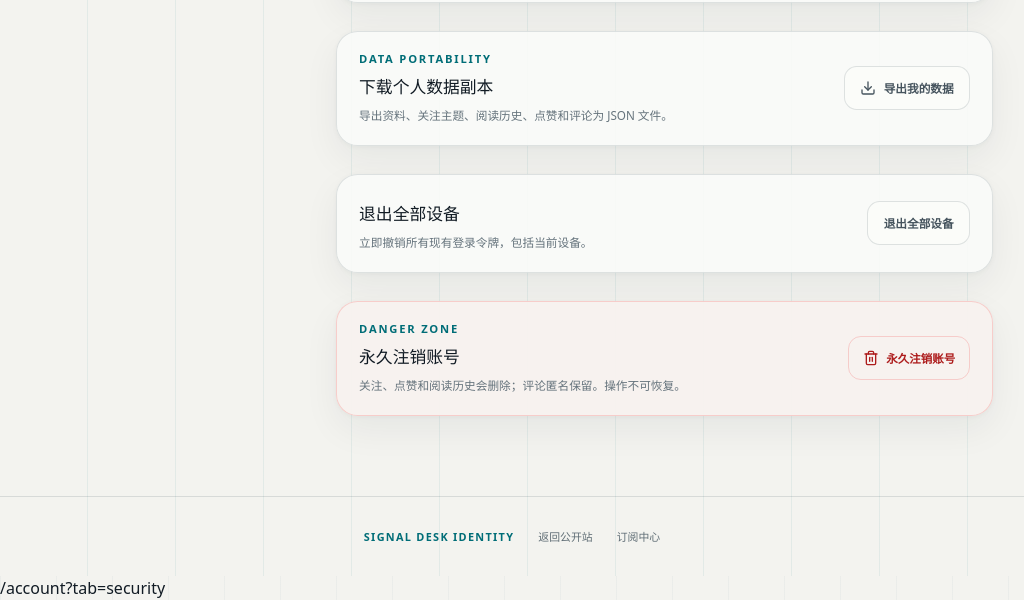
it: Account signal hub › revokes all sessions through the shared dialog and routes to the reasoned login URL
(page scrolled)
What coordinates should you click on to do the following:
click the button "退出全部设备"
I would click on:
 (919, 223)
Its box is [868, 201, 970, 245].
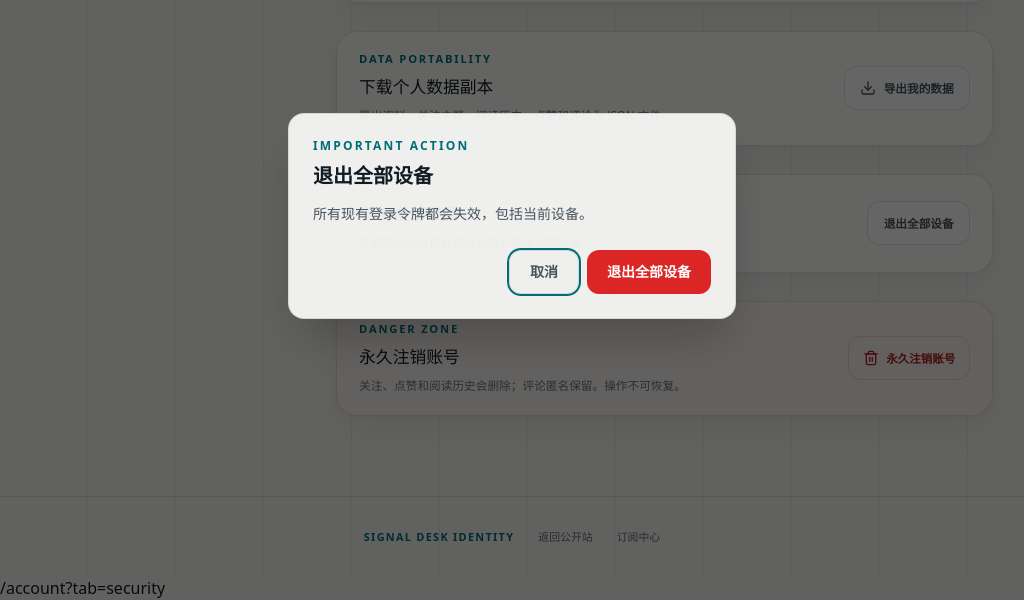
What coordinates should you click on to do the following:
click the button "退出全部设备"
I would click on:
 (649, 272)
Its box is [587, 250, 711, 294].
(page scrolled)
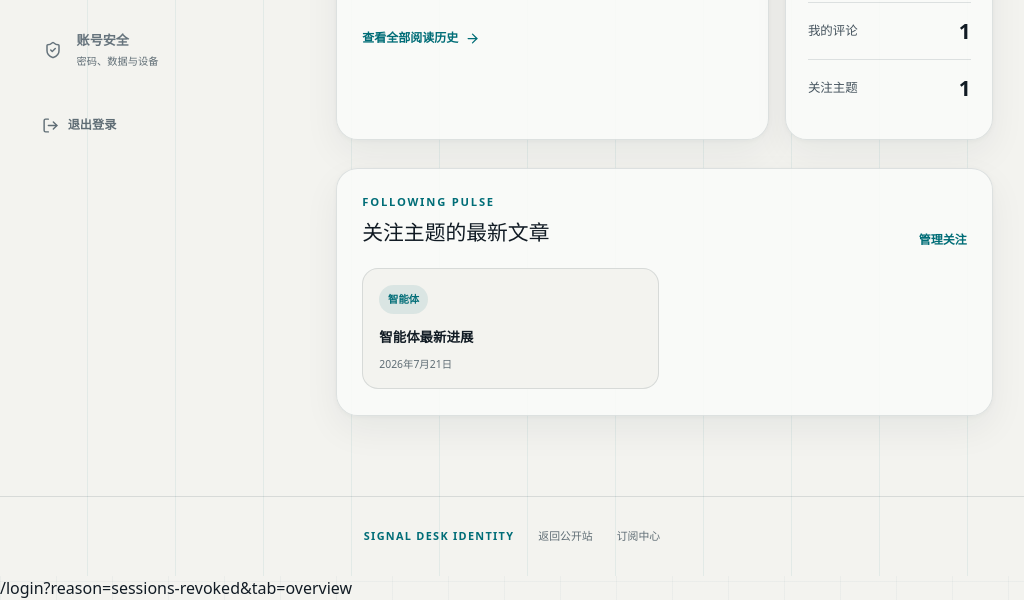
Now the text with test id "location" shows "/login?reason=sessions-revoked", box [0, 577, 352, 599]
